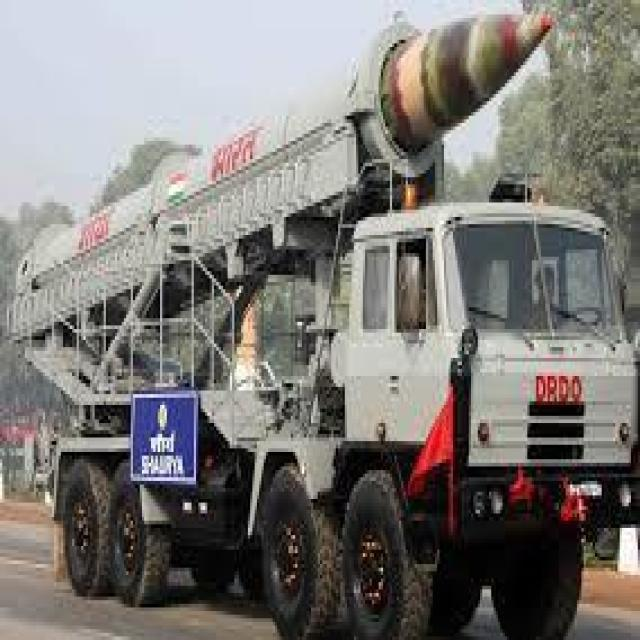MIL_MBT: (11, 31, 633, 627)
